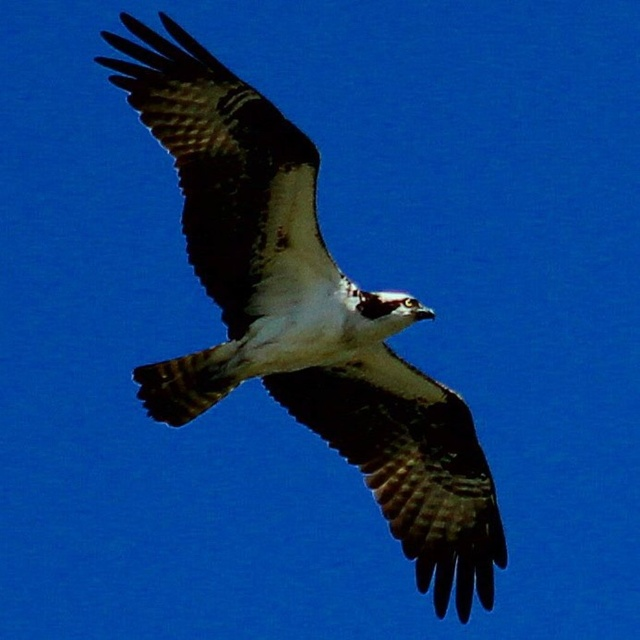Eagle: (92, 0, 513, 622)
